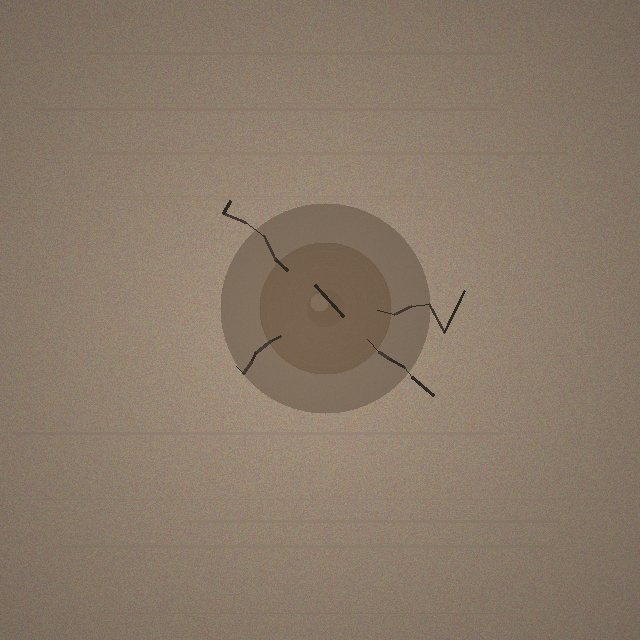crack: (220, 203, 430, 413)
